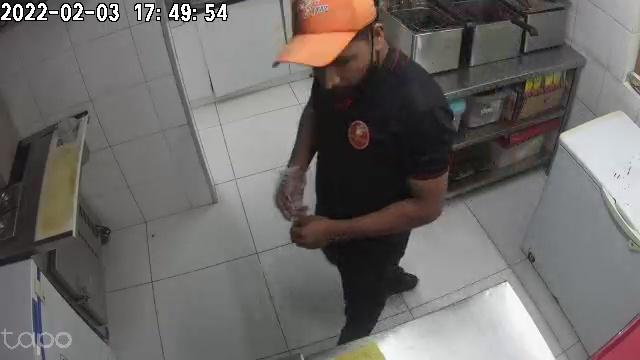gloves: (275, 155, 308, 213)
no_gloves: (291, 217, 349, 247)
